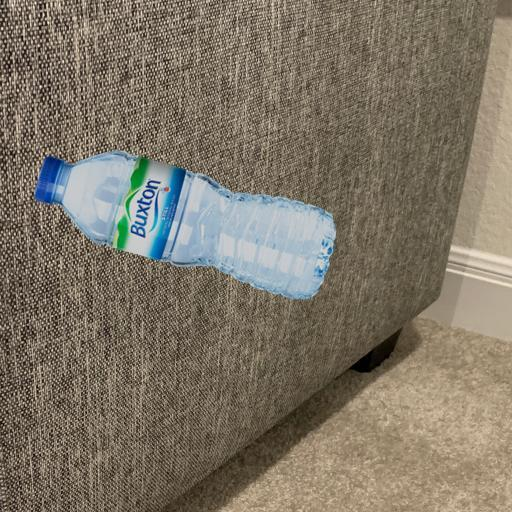bottle: (0, 199, 186, 240)
